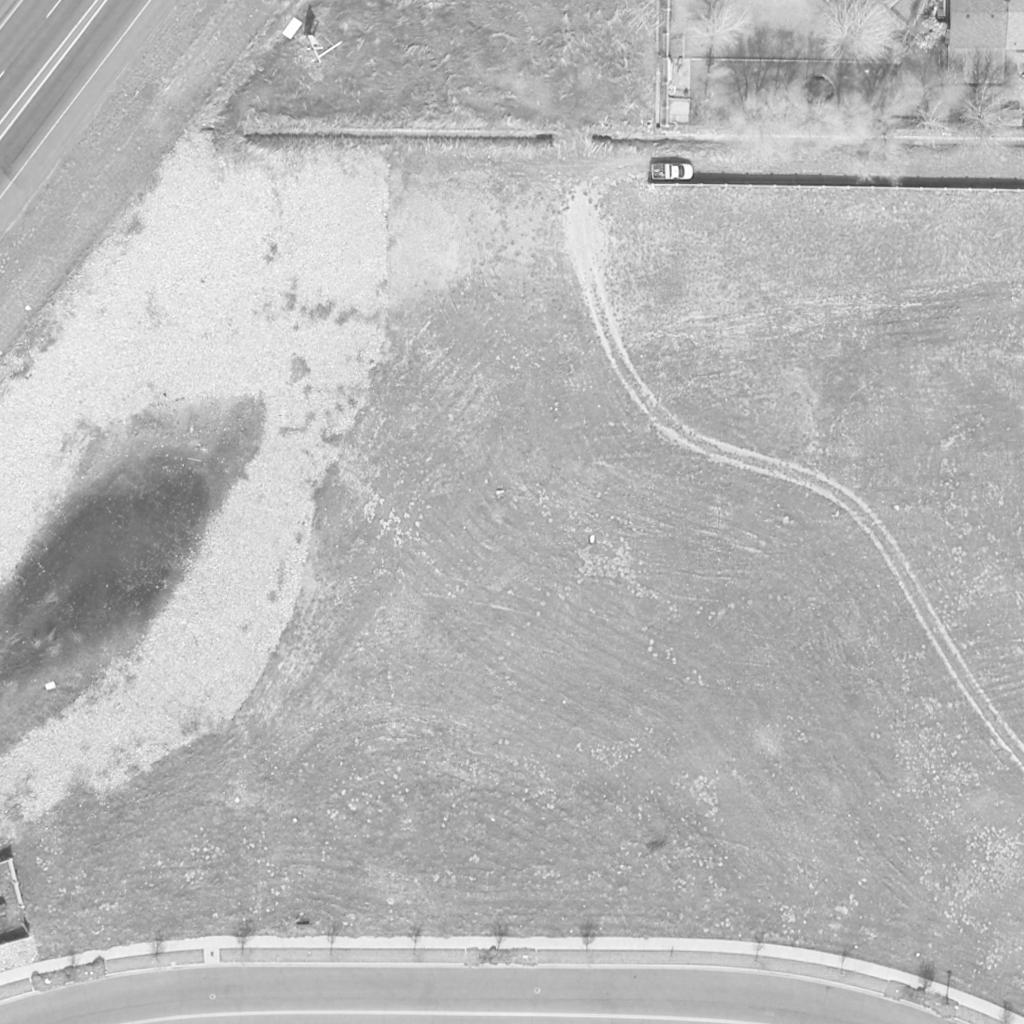vehicle: (649, 164, 695, 182)
